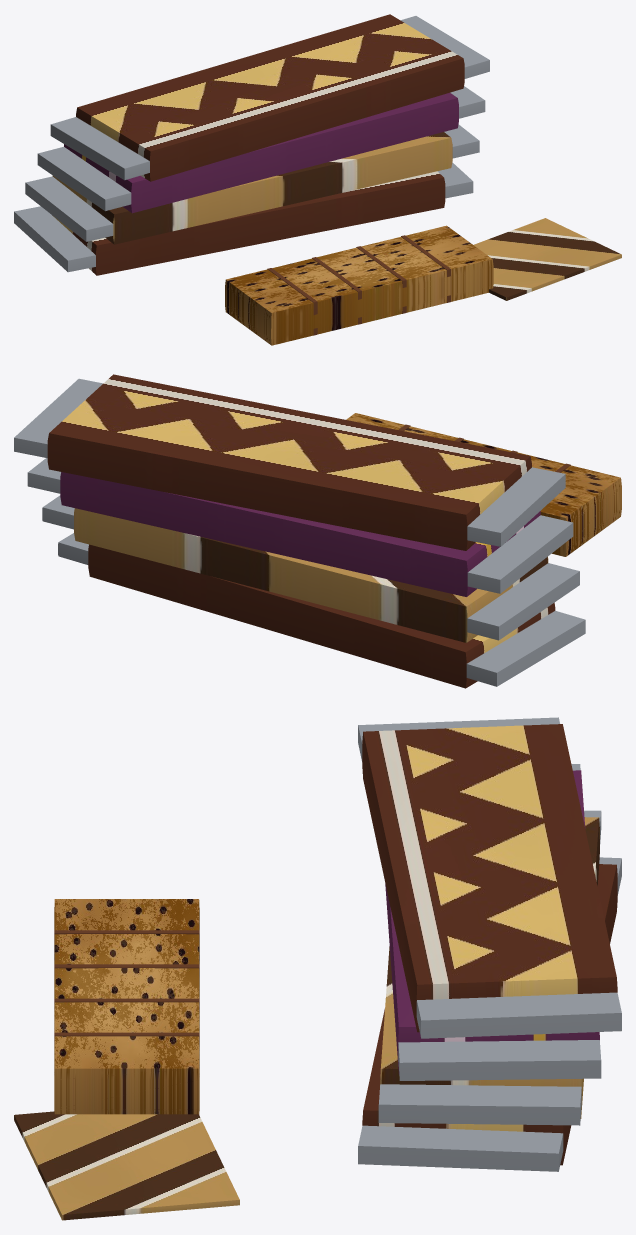
The model's file is ration_protein_bars_stack.glb.
3 views of the same model, one above another, from view 1: azimuth 30°, elevation 25°; view 2: azimuth 150°, elevation 25°; view 3: azimuth 270°, elevation 25° (orthographic). The views are drawn at different scales.
Parts seen in each view (by area): view 1: ration_protein_bars_stack; view 2: ration_protein_bars_stack; view 3: ration_protein_bars_stack.
Part boxes in pixels (x1=…): ration_protein_bars_stack: x1=14, y1=14, x2=621, y2=345; ration_protein_bars_stack: x1=14, y1=374, x2=621, y2=688; ration_protein_bars_stack: x1=14, y1=717, x2=621, y2=1220.
Size of the model in its own units: 0.1978 by 0.055 by 0.1507.
Materials: 6 (4 with a texture image).
